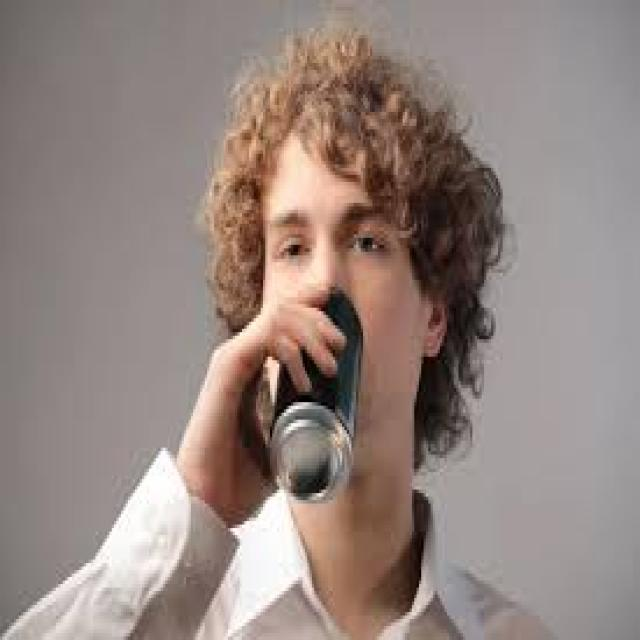Cans: (265, 280, 370, 510)
